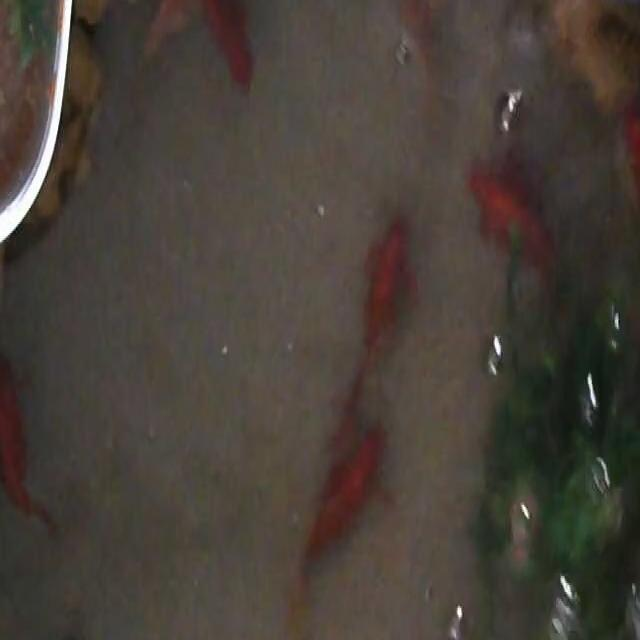fish: (340, 193, 434, 388), (462, 147, 562, 290), (317, 413, 389, 603), (0, 334, 62, 534), (611, 96, 640, 343), (195, 0, 262, 94), (157, 0, 218, 73)
